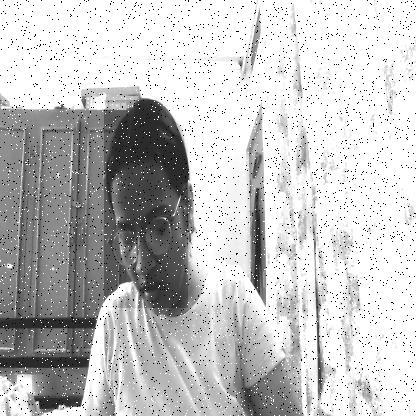Distracted: (104, 100, 188, 308)
